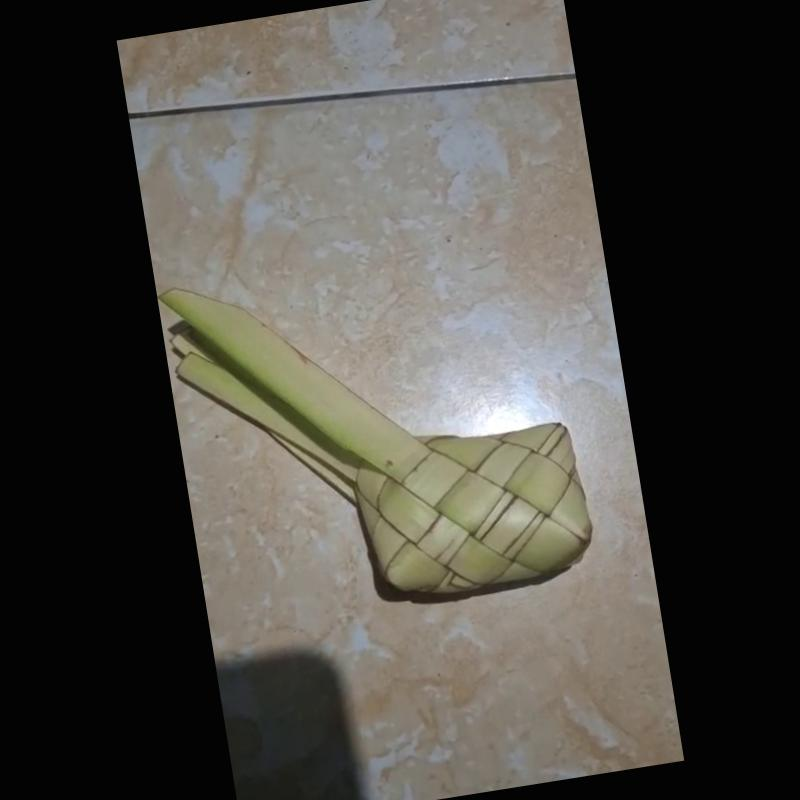Tipat Bantal: (167, 278, 597, 610)
